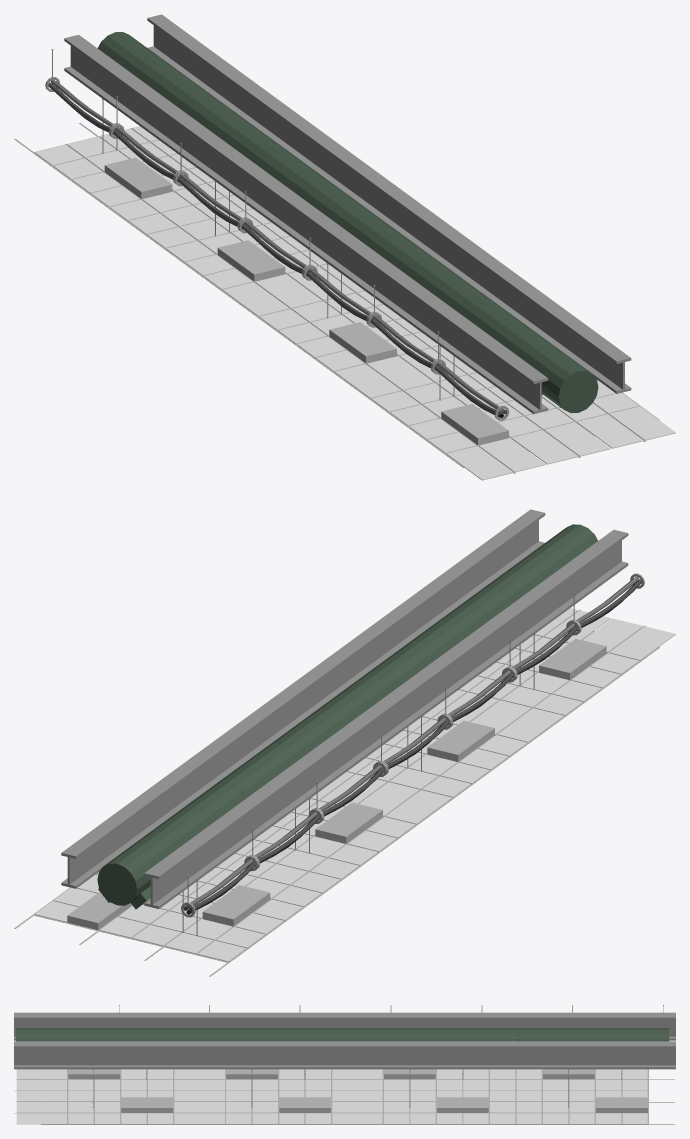
File: longHallwayIntact.fbx
3 renders of one model, top to bottom at view 1: azimuth 30°, elevation 25°; view 2: azimuth 150°, elevation 25°; view 3: azimuth 270°, elevation 25°, orthographic. The views are drawn at different scales.
Parts seen in each view (by area): view 1: Plane.054; view 2: Plane.054; view 3: Plane.054.
Boxes of the visible parts, bbox=[...] form: Plane.054: bbox=[14, 14, 675, 480]; Plane.054: bbox=[14, 509, 675, 976]; Plane.054: bbox=[14, 1005, 675, 1124].
Size of the model in its own units: 1269 by 546 by 5244.
